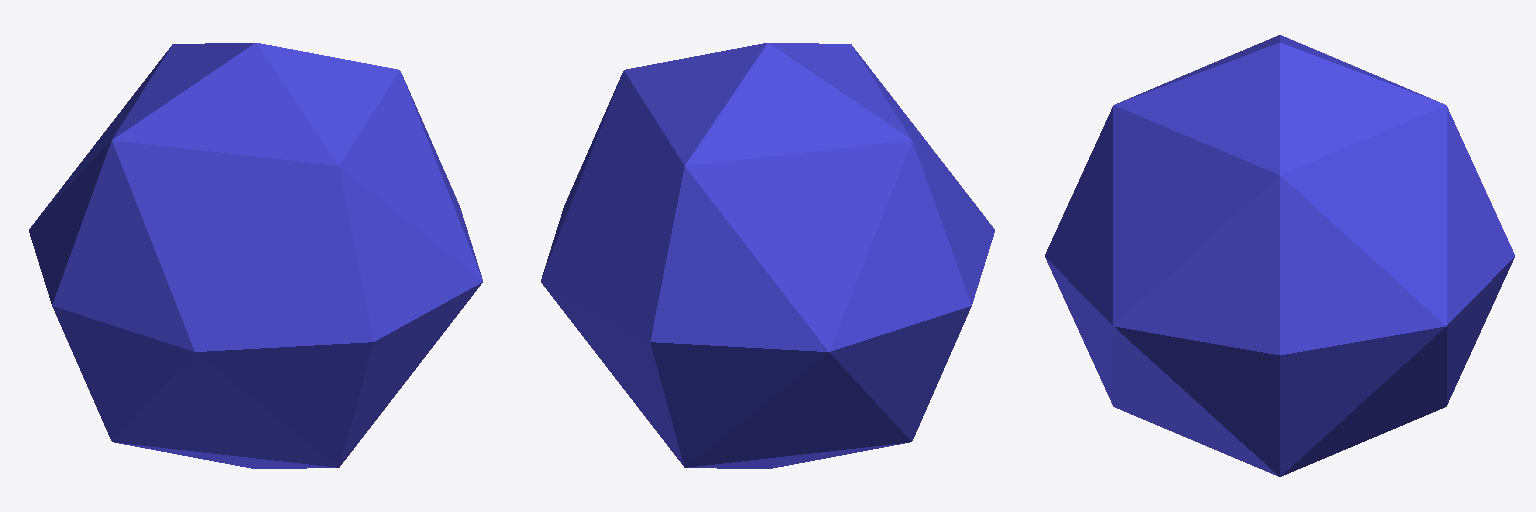
The picture shows the model from 3 angles: view 1: azimuth 30°, elevation 25°; view 2: azimuth 150°, elevation 25°; view 3: azimuth 270°, elevation 25°; orthographic projection.
Parts seen in each view (by area): view 1: GeoSphere001; view 2: GeoSphere001; view 3: GeoSphere001.
Part boxes in pixels (x1,y1,x2,y2): GeoSphere001: (29, 43, 482, 468); GeoSphere001: (541, 43, 994, 468); GeoSphere001: (1045, 35, 1514, 476).
Bounding box in the file's own units: 10 × 10 × 10.